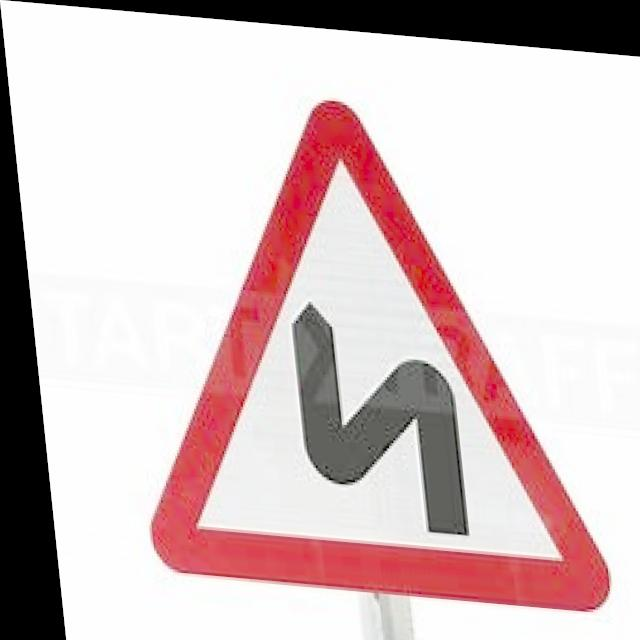LEFT_REVERSE_BEND: (98, 76, 604, 605)
